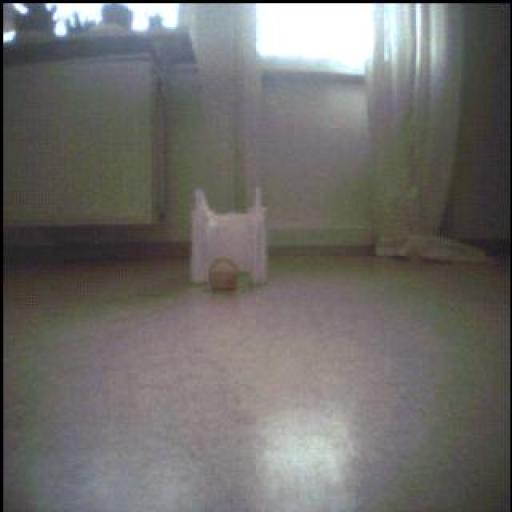Basket: (211, 259, 240, 292)
